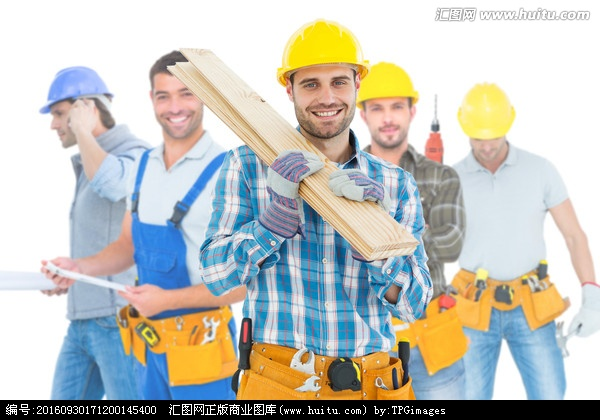blue: (43, 68, 111, 140)
none: (147, 50, 210, 141)
yellow: (278, 18, 365, 142), (353, 62, 422, 151), (449, 85, 517, 157)
